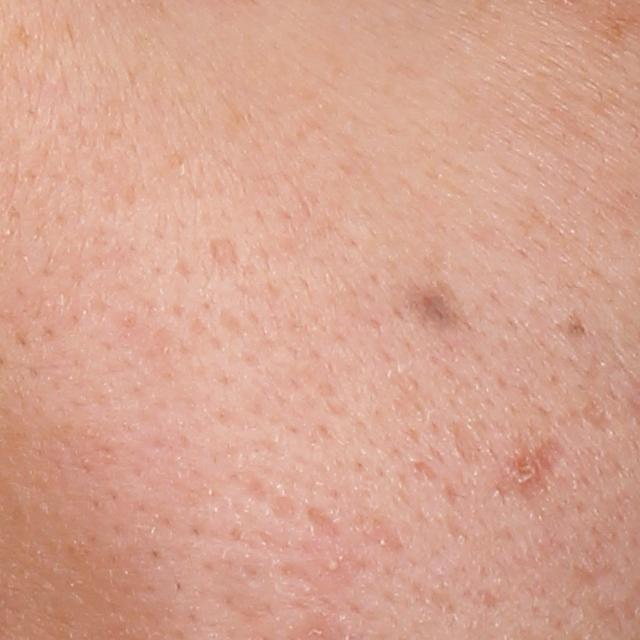atrophic_scar: (448, 417, 488, 471), (580, 392, 613, 435), (306, 506, 344, 541), (208, 237, 241, 268)
comedo: (320, 554, 342, 575)
papule: (505, 452, 540, 491)
